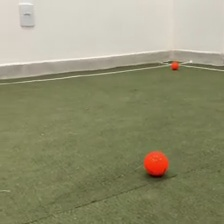ball: (142, 149, 170, 179), (170, 60, 180, 71)
